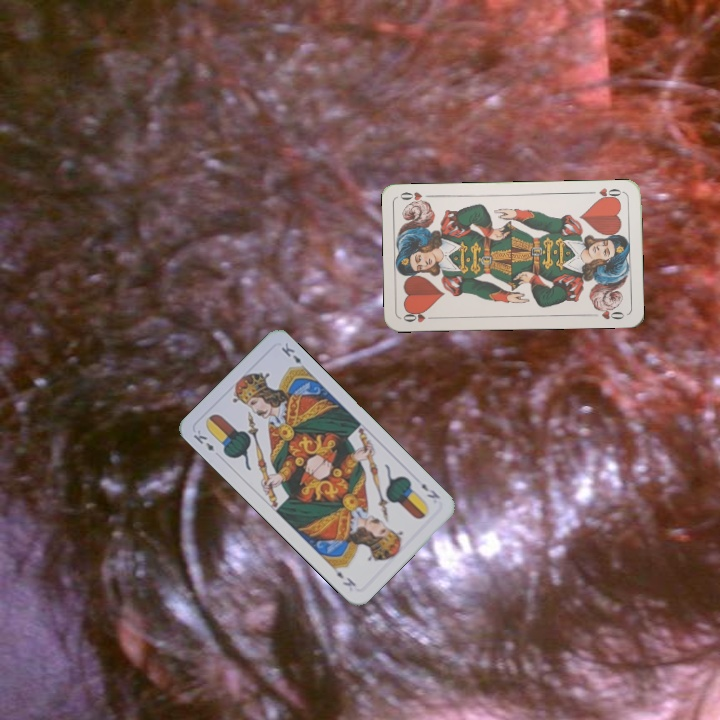EK: (189, 426, 217, 454), (417, 479, 443, 501)
HO: (585, 184, 625, 203), (399, 307, 439, 325)
